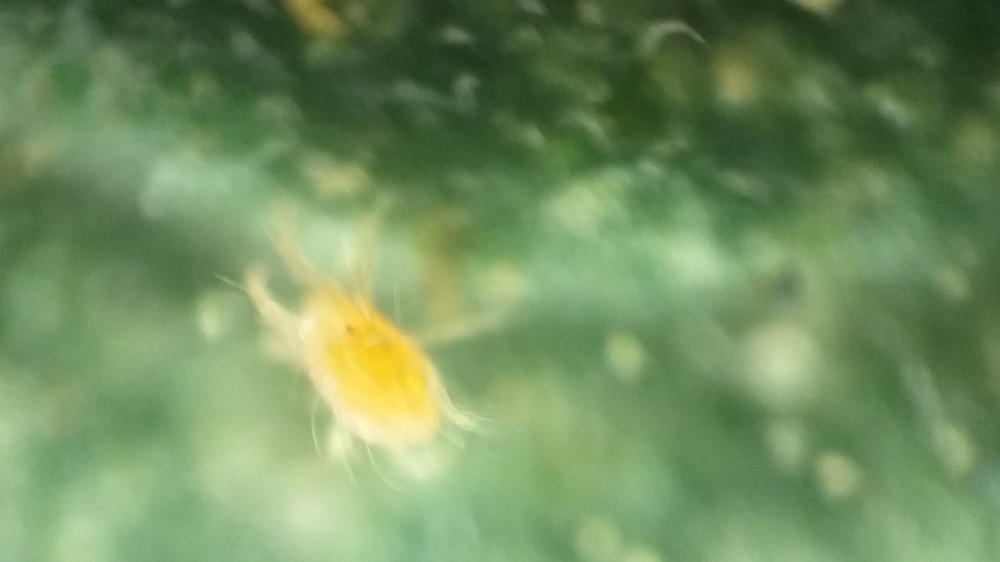Aracnido Rojo: (190, 208, 535, 488)
